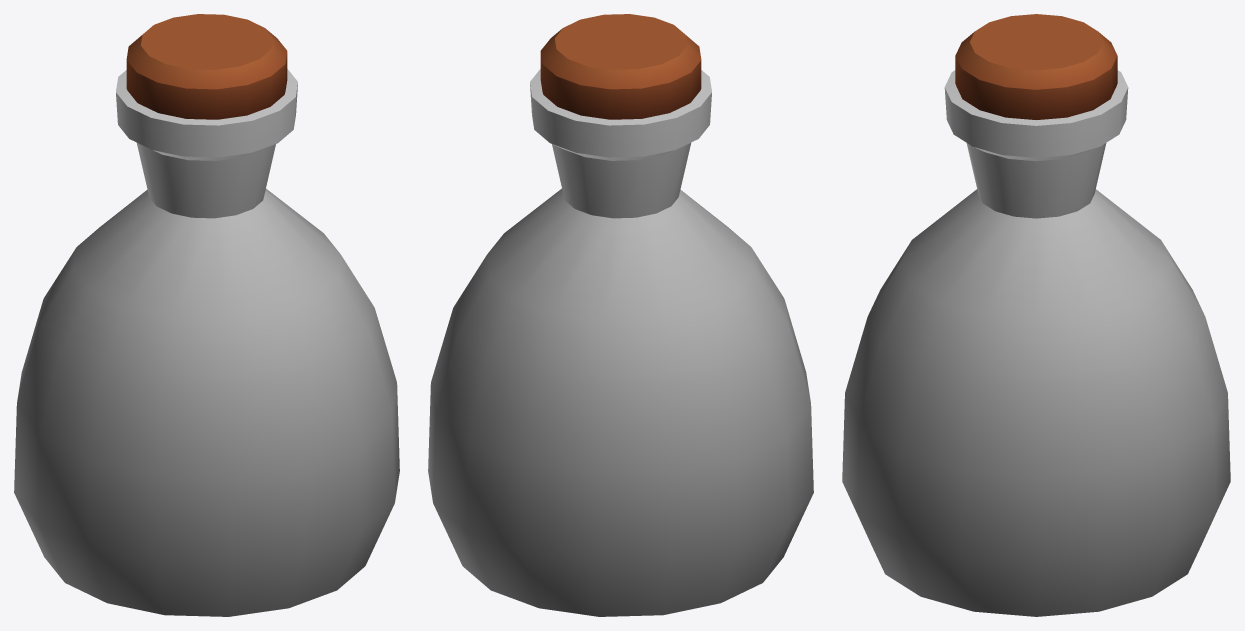
The model's file is Posion-4.fbx.
3 views of the same model, side by side, from view 1: azimuth 30°, elevation 25°; view 2: azimuth 150°, elevation 25°; view 3: azimuth 270°, elevation 25° (orthographic).
Visible parts, largest first — view 1: Posion-4; view 2: Posion-4; view 3: Posion-4.
Boxes of the visible parts, left/top/right/bottom form: Posion-4: left=14, top=14, right=399, bottom=616; Posion-4: left=428, top=14, right=813, bottom=616; Posion-4: left=842, top=14, right=1230, bottom=616.
Size of the model in its own units: 49.7 by 71.35 by 49.7.
